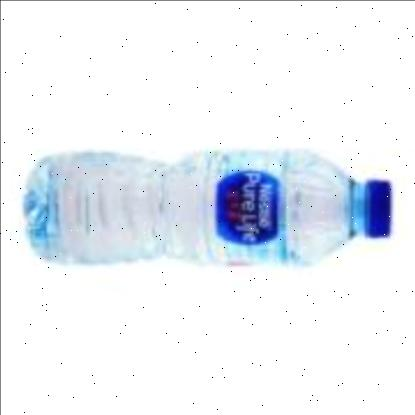Plastic Bottle: (23, 150, 392, 268)
